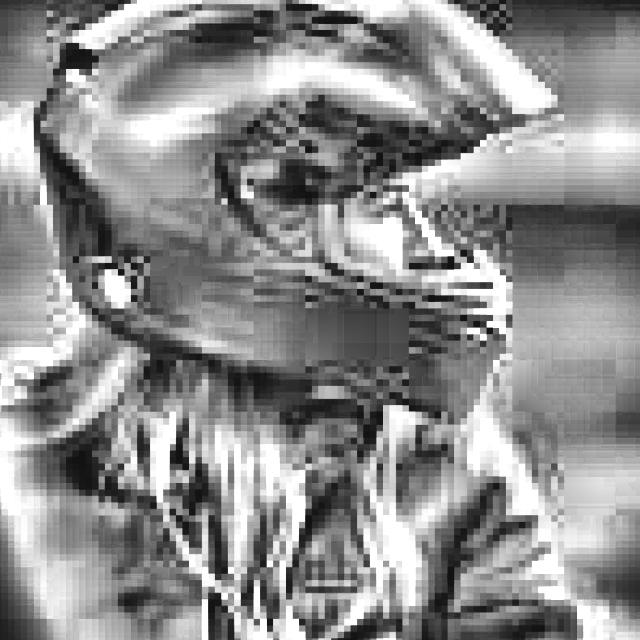Helmet: (30, 0, 561, 452)
